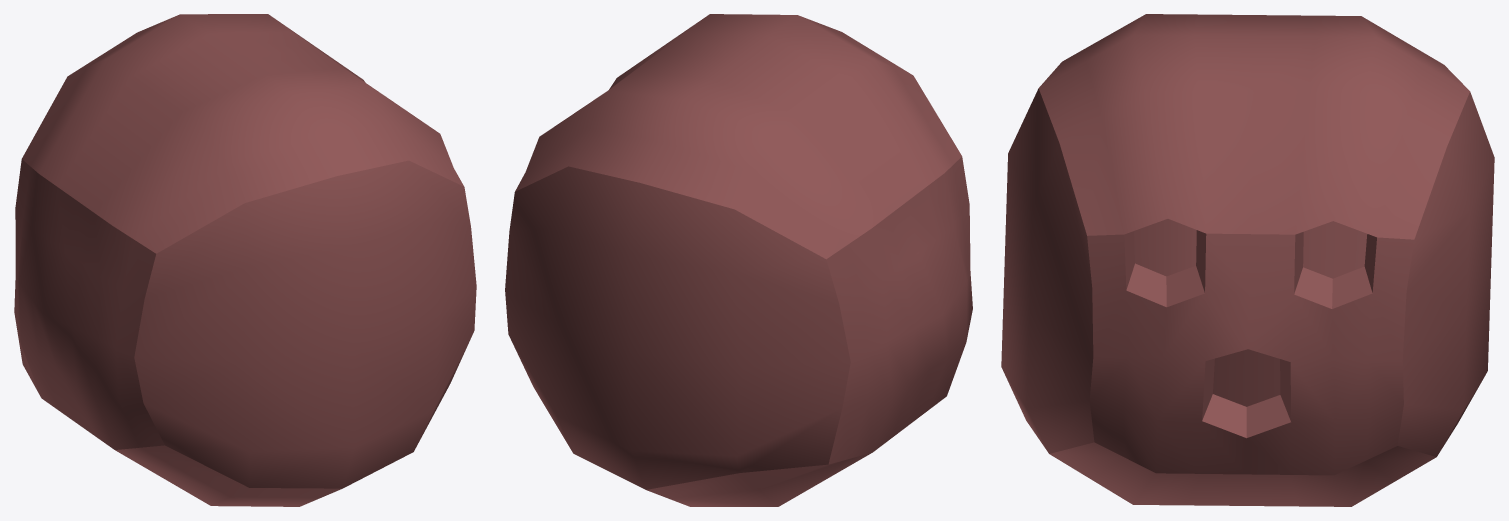
Rendered from Coco.fbx.
The picture shows the model from 3 angles, left to right: view 1: azimuth 30°, elevation 25°; view 2: azimuth 150°, elevation 25°; view 3: azimuth 270°, elevation 25°; orthographic projection. The views are drawn at different scales.
Parts seen in each view (by area): view 1: pCube1; view 2: pCube1; view 3: pCube1.
Part boxes in pixels (left/top/right/bottom): pCube1: left=14, top=14, right=476, bottom=506; pCube1: left=505, top=14, right=972, bottom=506; pCube1: left=1001, top=14, right=1494, bottom=506.
Bounding box in the file's own units: 9.8 × 9.74 × 9.87.
